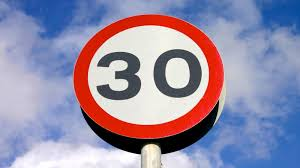Speed_limit_30km: (71, 14, 224, 140)
